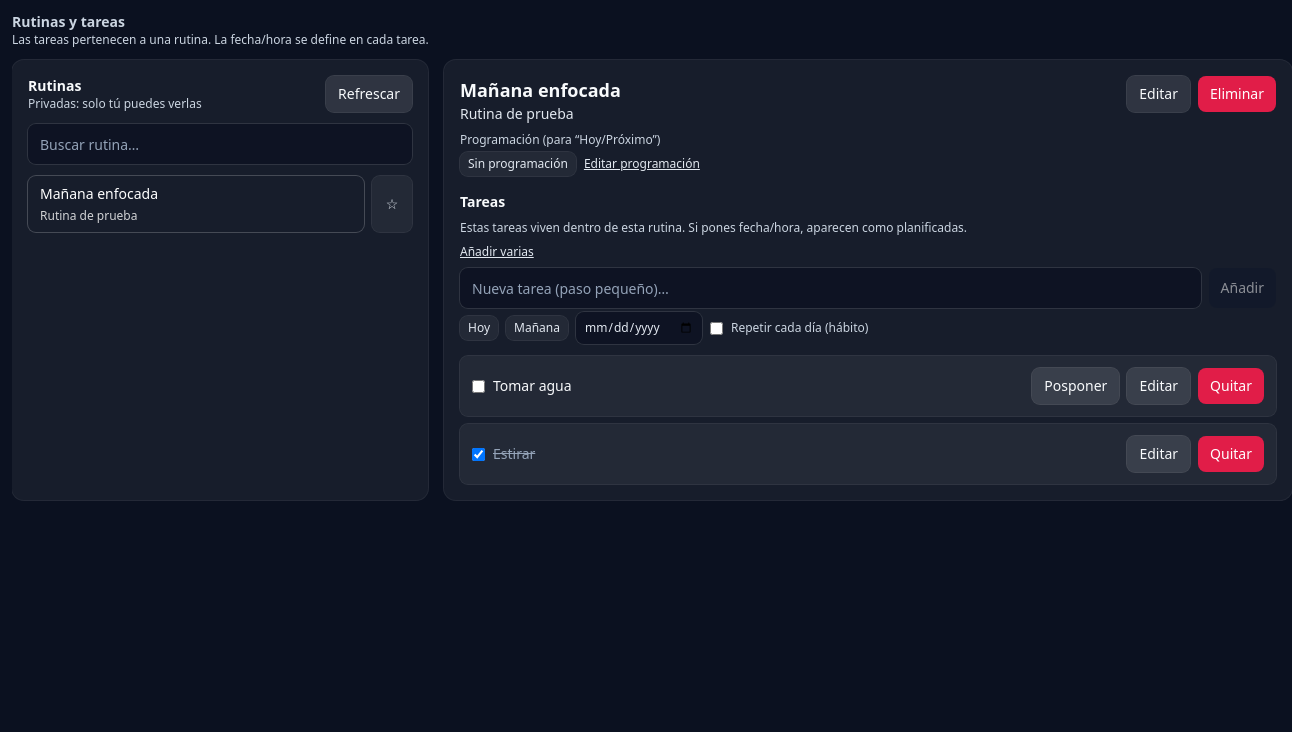
RoutinePanel with a selected routine › renders the day pills in night theme
expect the heading "Mañana enfocada" is shown: met, box top-left (460, 78), bottom-right (621, 102)
Click the button "Editar programación" at (642, 164), box top-left (584, 156), bottom-right (700, 172)
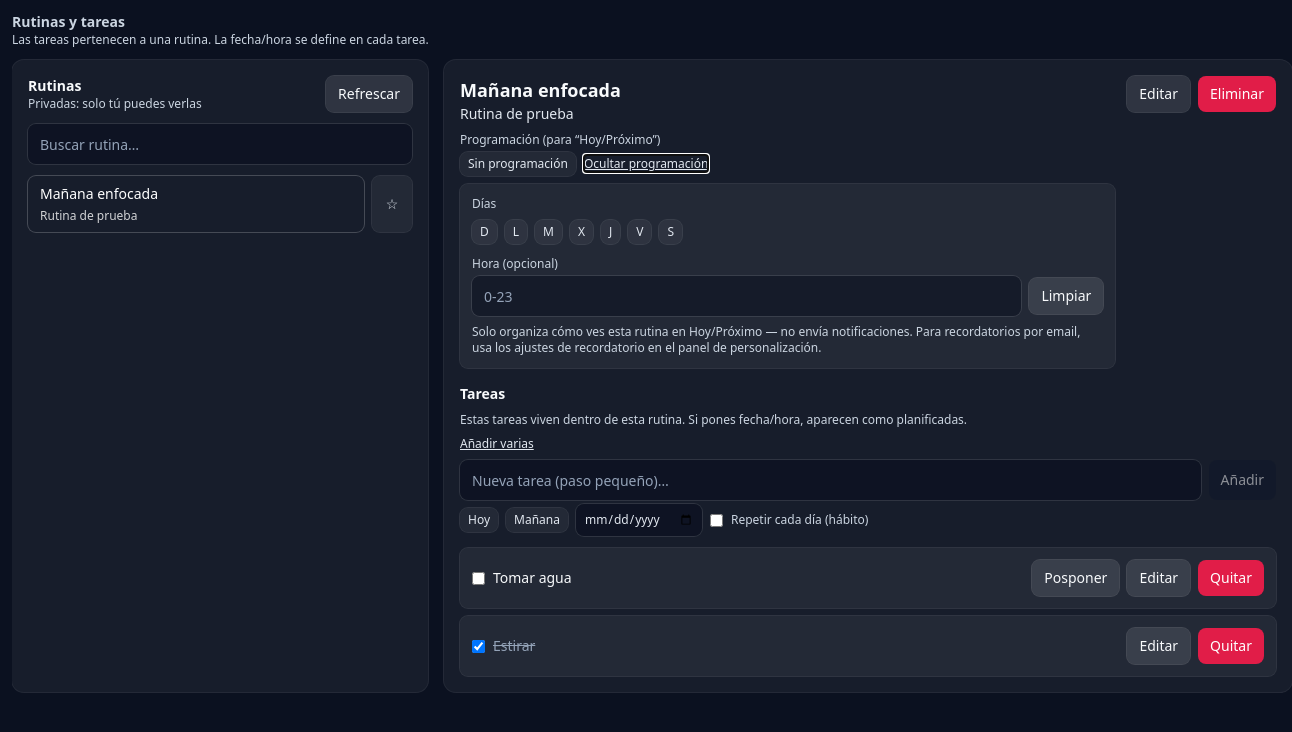
expect the button "L" is shown: met, box top-left (505, 220), bottom-right (527, 244)
